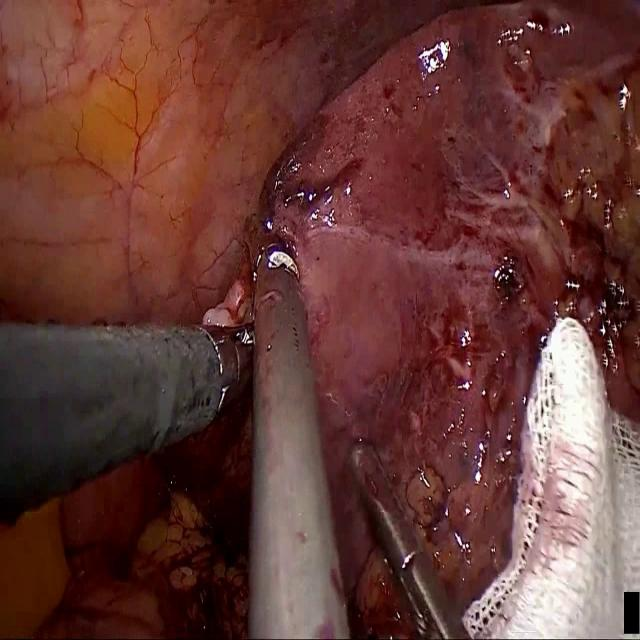surgical-area: (0, 0, 640, 639), (0, 382, 254, 639)
surgical-tool: (0, 324, 254, 528), (248, 225, 352, 639), (347, 436, 472, 639)
